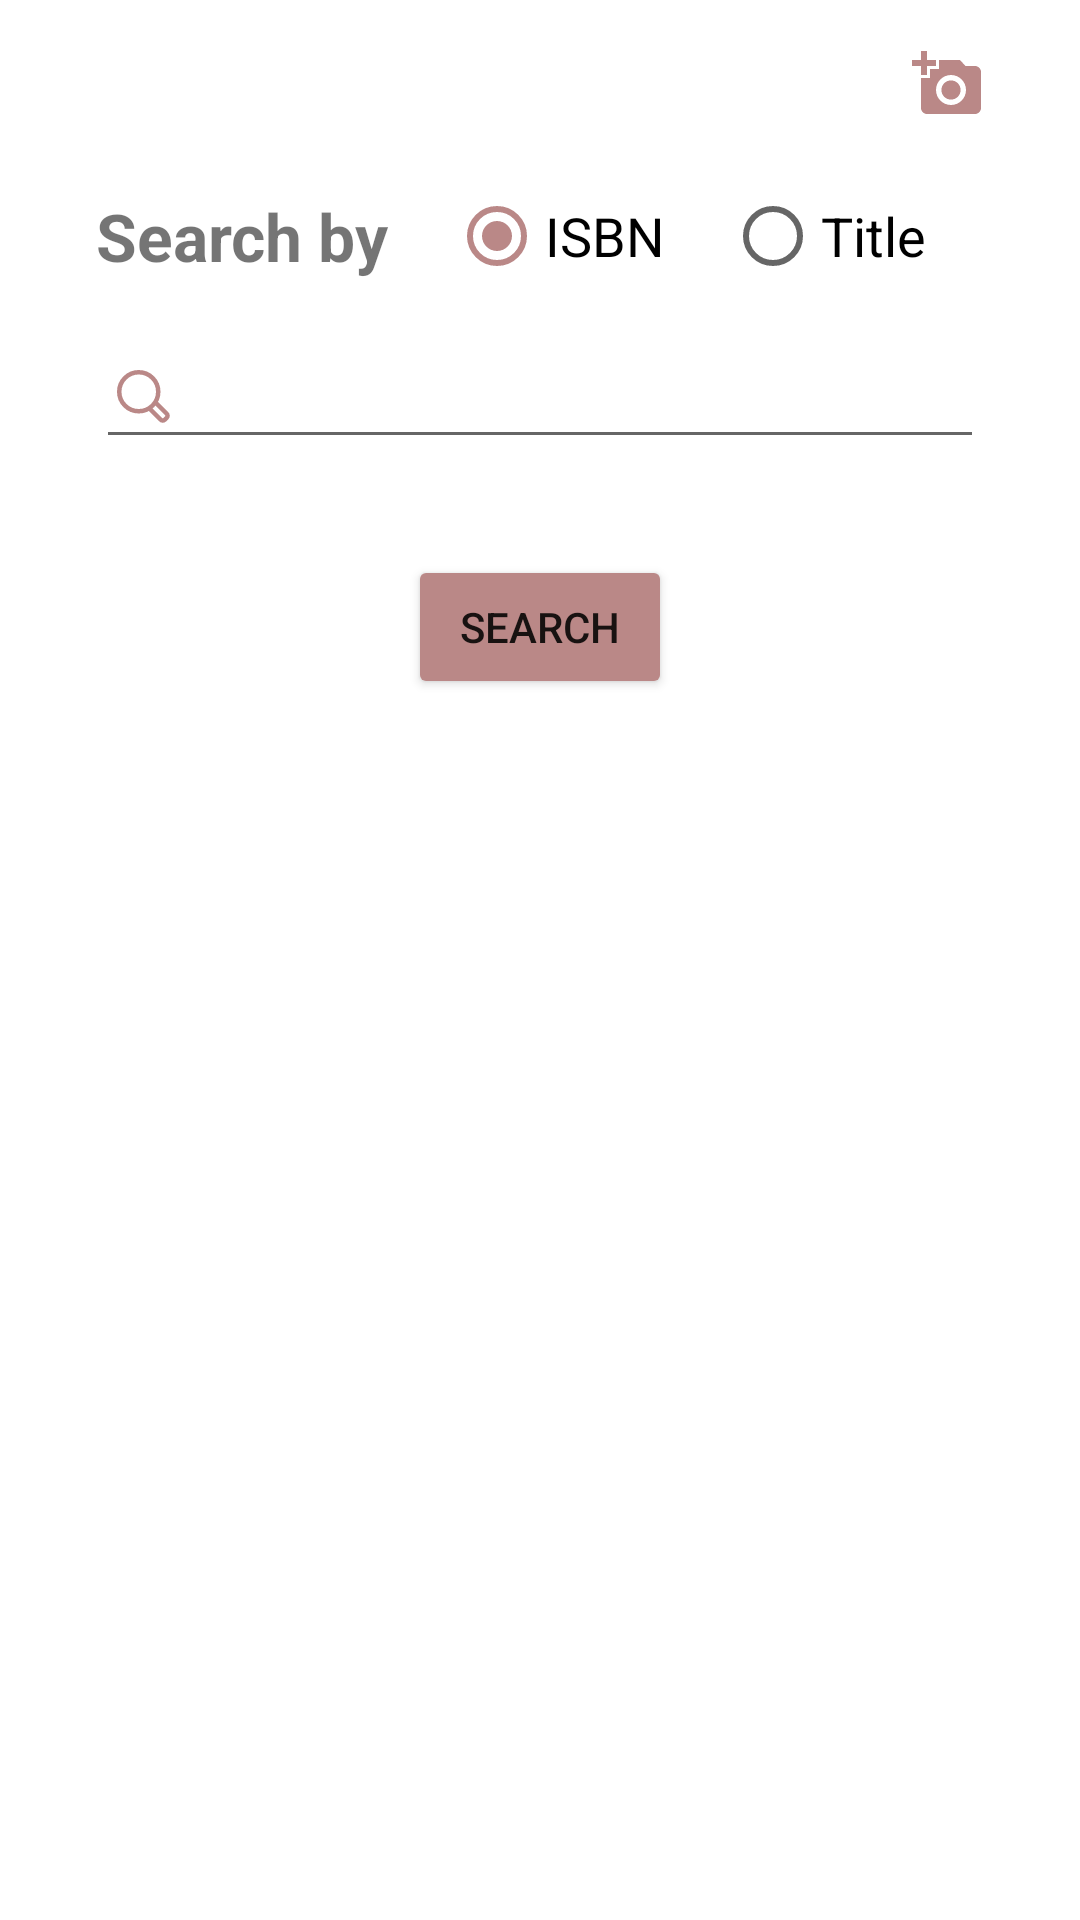

Named icons in this screenshot (1080w x 1920h) and their bounding boxes, (x1, y1, x2, y2):
camera: (912, 51, 981, 114)
